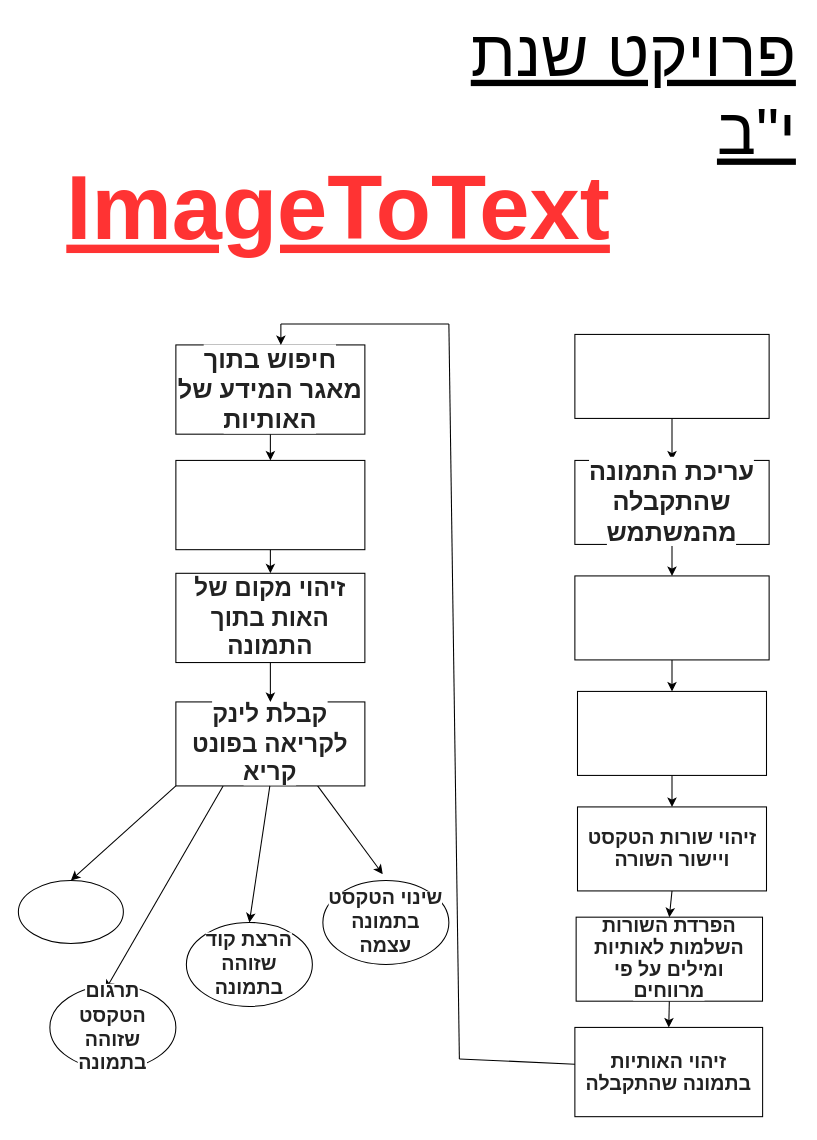
The diagram is 817 pixels wide and 1140 high, and some of its shapes have lost their labels. The shapes that lost their labels are listed below. From the top down, each one's centre as x and y in pixels, then its label:
pixel 671 375: קליטת התמונה מהמשתמש
pixel 270 504: סיווג האותיות בתמונה שהתקבלה
pixel 671 617: שליחת התמונה הערוכה לשרת
pixel 671 732: דגימת התמונה כדי למצוא איזה גוון מבדיל בין הטקסט לרקע התמונה
pixel 70 911: PDF
